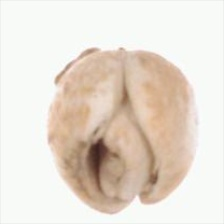L3: (83, 105, 159, 213)
L4: (48, 47, 198, 214)
